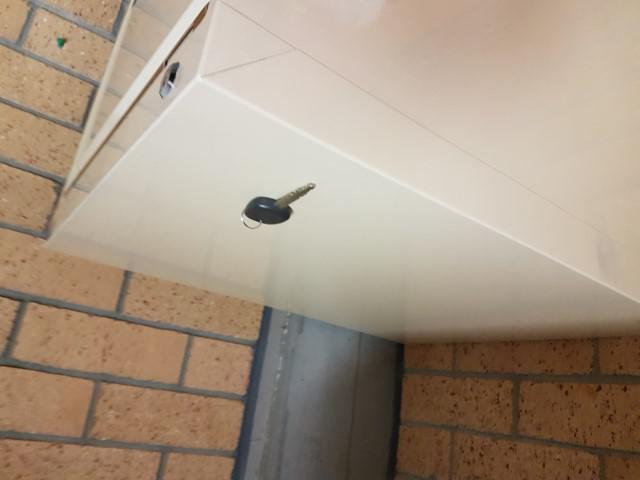key: (245, 180, 315, 225)
